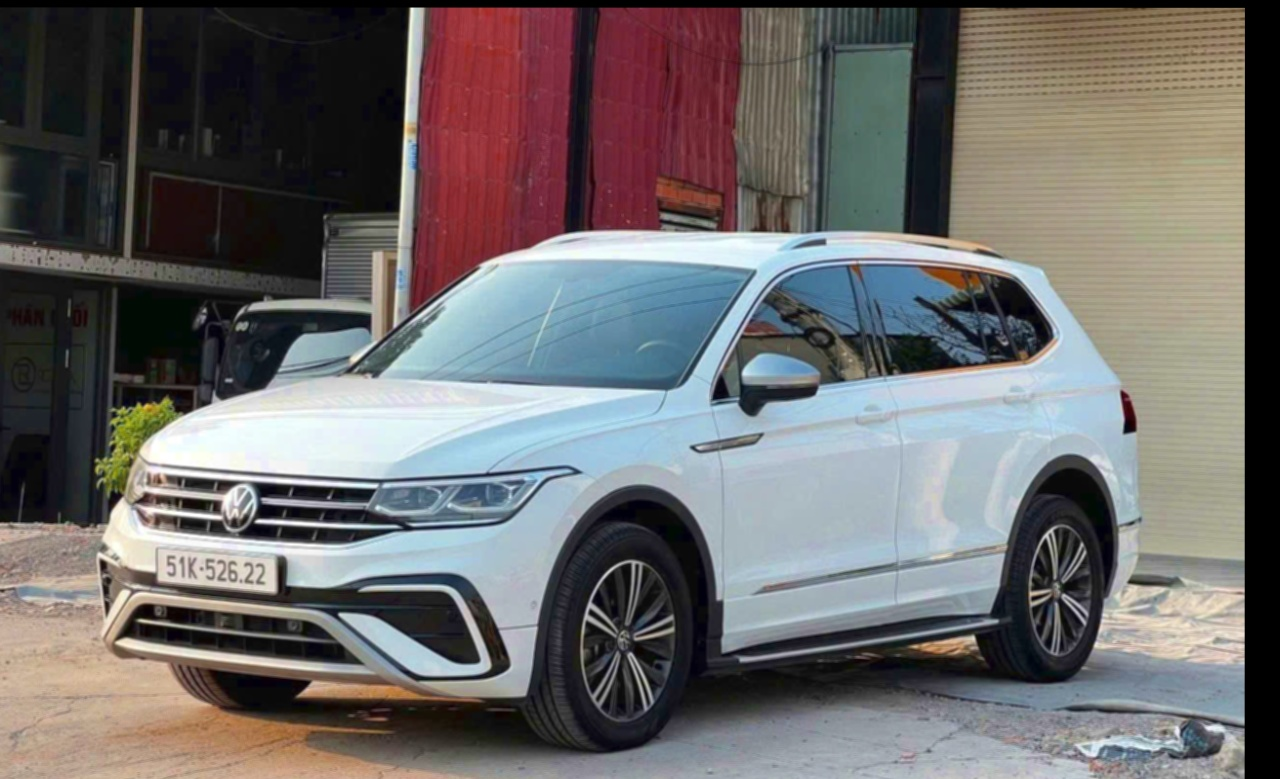Bien-so: (164, 572, 304, 627)
